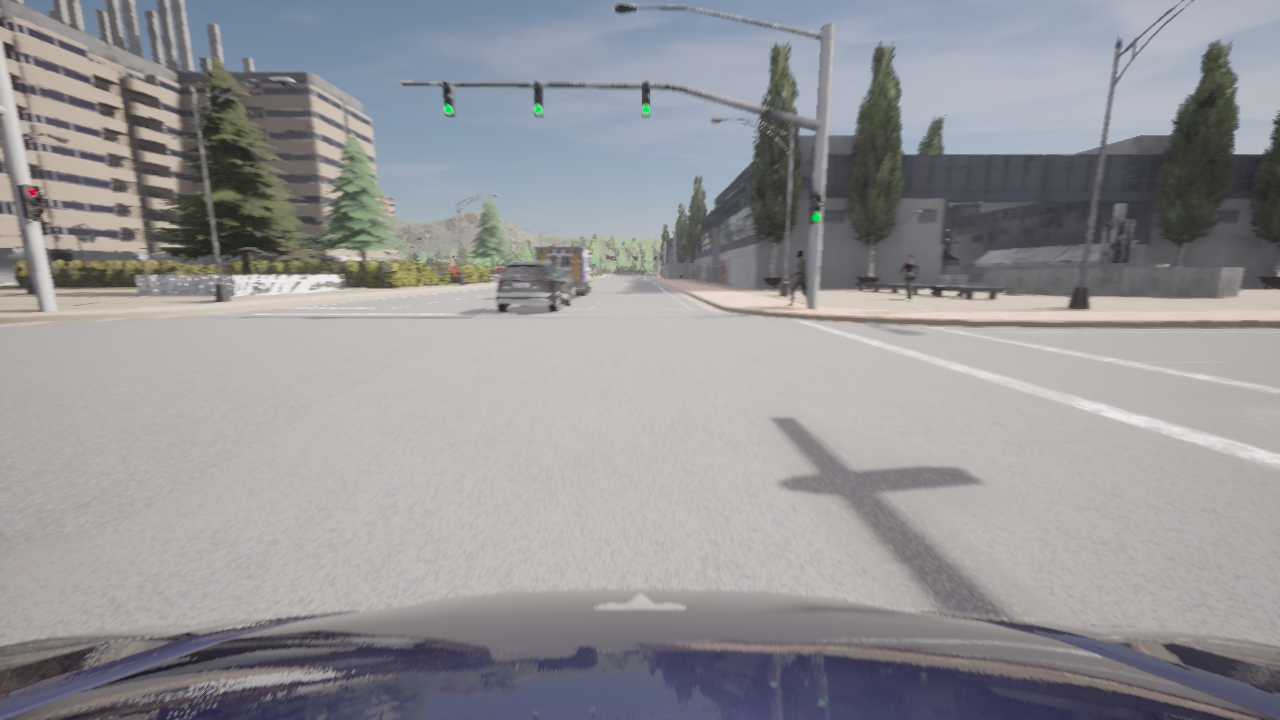cyclist: (0, 588, 1279, 719), (495, 260, 572, 312), (535, 246, 595, 295)
pedestrian: (785, 249, 806, 306), (898, 254, 918, 299), (706, 272, 710, 286)
